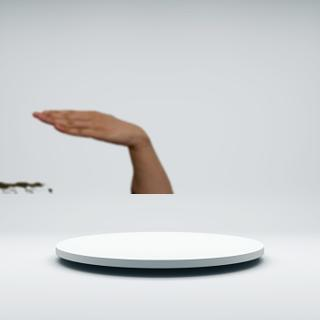WAIT: (29, 104, 145, 148)
